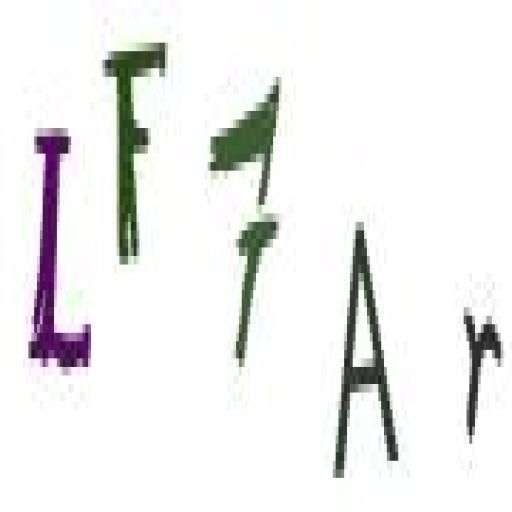7: (203, 73, 291, 399)
A: (327, 208, 406, 486)
F: (98, 20, 171, 282)
L: (21, 111, 97, 389)
r: (457, 293, 505, 456)
